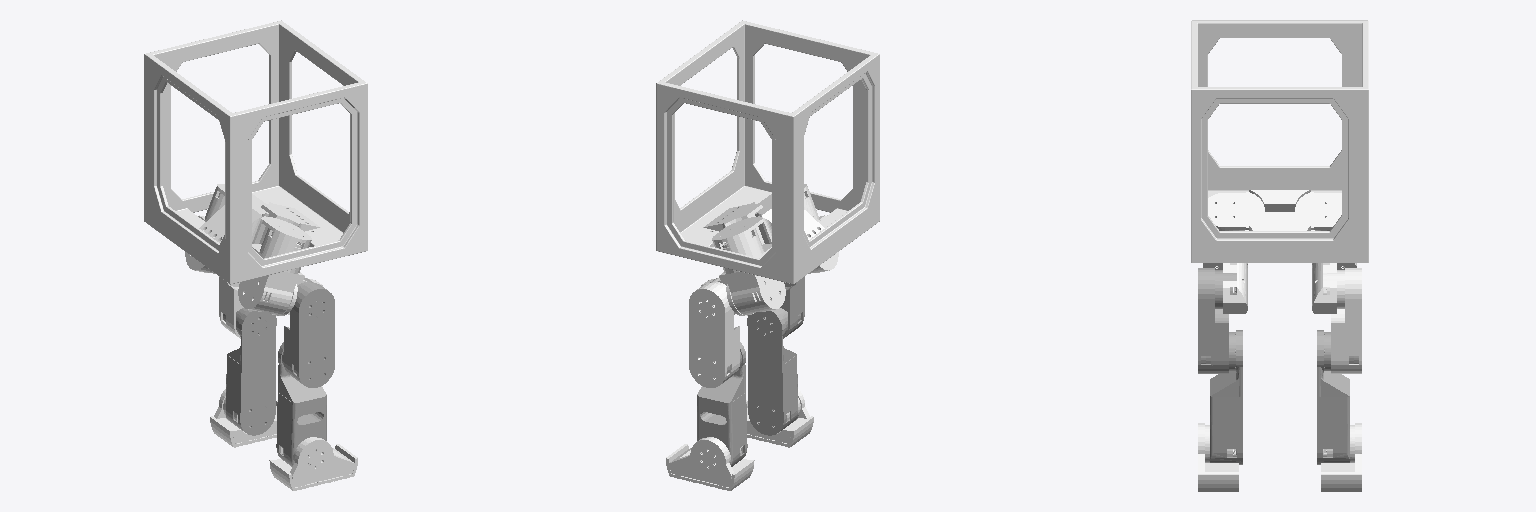
The robot description file, URDF, robot "x37":
<?xml version="1.0" encoding="utf-8"?>
<!-- This URDF was automatically created by SolidWorks to URDF Exporter! Originally created by [author] ([email redacted]) 
     Commit Version: 1.6.0-4-g7f85cfe  Build Version: 1.6.7995.38578
     For more information, please see http://wiki.ros.org/sw_urdf_exporter -->
<robot
  name="x37">
  <link
    name="base_link">
    <inertial>
      <origin
        xyz="-0.0052659 0.0046285 0.091904"
        rpy="0 0 0" />
      <mass
        value="0.63" />
      <inertia
        ixx="0.032866"
        ixy="-4.7247E-05"
        ixz="0.00037312"
        iyy="0.03236"
        iyz="-0.00040682"
        izz="0.031374" />
    </inertial>
    <visual>
      <origin
        xyz="0 0 0"
        rpy="0 0 0" />
      <geometry>
        <mesh
          filename="package://x37/meshes/base_link.STL" />
      </geometry>
      <material
        name="">
        <color
          rgba="1 1 1 1" />
      </material>
    </visual>
    <collision>
      <origin
        xyz="0 0 0"
        rpy="0 0 0" />
      <geometry>
        <mesh
          filename="package://x37/meshes/base_link.STL" />
      </geometry>
    </collision>
  </link>
  <link
    name="left_shoulder_link">
    <inertial>
      <origin
        xyz="-0.0017322 -1.2049E-08 0.011761"
        rpy="0 0 0" />
      <mass
        value="0.4" />
      <inertia
        ixx="7.7938E-05"
        ixy="-1.8587E-08"
        ixz="-3.6417E-06"
        iyy="7.4358E-05"
        iyz="1.2237E-11"
        izz="7.9817E-05" />
    </inertial>
    <visual>
      <origin
        xyz="0 0 0"
        rpy="0 0 0" />
      <geometry>
        <mesh
          filename="package://x37/meshes/left_shoulder_link.STL" />
      </geometry>
      <material
        name="">
        <color
          rgba="1 1 1 1" />
      </material>
    </visual>
    <collision>
      <origin
        xyz="0 0 0"
        rpy="0 0 0" />
      <geometry>
        <mesh
          filename="package://x37/meshes/left_shoulder_link.STL" />
      </geometry>
    </collision>
  </link>
  <joint
    name="left_shoulder_joint"
    type="revolute">
    <origin
      xyz="-0.00828743204546448 0.0800000000000006 -0.0160851055183165"
      rpy="0 0.411516846067488 0" />
    <parent
      link="base_link" />
    <child
      link="left_shoulder_link" />
    <axis
      xyz="0 0 1" />
    <limit
      lower="-1"
      upper="1"
      effort="9"
      velocity="0" />
  </joint>
  <link
    name="left_pitch_link">
    <inertial>
      <origin
        xyz="-0.010677 0.0034309 -9.5797E-05"
        rpy="0 0 0" />
      <mass
        value="0.45" />
      <inertia
        ixx="6.2479E-05"
        ixy="-4.6603E-06"
        ixz="-2.4954E-07"
        iyy="7.4674E-05"
        iyz="-3.5353E-08"
        izz="7.3044E-05" />
    </inertial>
    <visual>
      <origin
        xyz="0 0 0"
        rpy="0 0 0" />
      <geometry>
        <mesh
          filename="package://x37/meshes/left_pitch_link.STL" />
      </geometry>
      <material
        name="">
        <color
          rgba="1 1 1 1" />
      </material>
    </visual>
    <collision>
      <origin
        xyz="0 0 0"
        rpy="0 0 0" />
      <geometry>
        <mesh
          filename="package://x37/meshes/left_pitch_link.STL" />
      </geometry>
    </collision>
  </link>
  <joint
    name="left_pitch_joint"
    type="revolute">
    <origin
      xyz="0.0253000000000022 0 -0.0407477270848656"
      rpy="-3.14159265358979 0 0" />
    <parent
      link="left_shoulder_link" />
    <child
      link="left_pitch_link" />
    <axis
      xyz="-1 0 0" />
    <limit
      lower="-0.23"
      upper="0.23"
      effort="9"
      velocity="0" />
  </joint>
  <link
    name="left_thigh_link">
    <inertial>
      <origin
        xyz="0.0085223 -0.019784 -0.019604"
        rpy="0 0 0" />
      <mass
        value="0.43" />
      <inertia
        ixx="0.00012886"
        ixy="2.6054E-06"
        ixz="2.0573E-05"
        iyy="0.00016108"
        iyz="-5.9908E-06"
        izz="9.097E-05" />
    </inertial>
    <visual>
      <origin
        xyz="0 0 0"
        rpy="0 0 0" />
      <geometry>
        <mesh
          filename="package://x37/meshes/left_thigh_link.STL" />
      </geometry>
      <material
        name="">
        <color
          rgba="1 1 1 1" />
      </material>
    </visual>
    <collision>
      <origin
        xyz="0 0 0"
        rpy="0 0 0" />
      <geometry>
        <mesh
          filename="package://x37/meshes/left_thigh_link.STL" />
      </geometry>
    </collision>
  </link>
  <joint
    name="left_hip_joint"
    type="revolute">
    <origin
      xyz="0.041999999999999 -0.0358357508034273 0"
      rpy="-3.14159265358979 0 0" />
    <parent
      link="left_pitch_link" />
    <child
      link="left_thigh_link" />
    <axis
      xyz="0 -1 0" />
    <limit
      lower="-1.57"
      upper="1.57"
      effort="9"
      velocity="0" />
  </joint>
  <link
    name="left_shank_link">
    <inertial>
      <origin
        xyz="-0.00062601 -0.017923 0.04362"
        rpy="0 0 0" />
      <mass
        value="0.46" />
      <inertia
        ixx="0.00028279"
        ixy="-1.8797E-07"
        ixz="2.4416E-06"
        iyy="0.00030484"
        iyz="1.2948E-05"
        izz="0.00010499" />
    </inertial>
    <visual>
      <origin
        xyz="0 0 0"
        rpy="0 0 0" />
      <geometry>
        <mesh
          filename="package://x37/meshes/left_shank_link.STL" />
      </geometry>
      <material
        name="">
        <color
          rgba="0.75294 0.75294 0.75294 1" />
      </material>
    </visual>
    <collision>
      <origin
        xyz="0 0 0"
        rpy="0 0 0" />
      <geometry>
        <mesh
          filename="package://x37/meshes/left_shank_link.STL" />
      </geometry>
    </collision>
  </link>
  <joint
    name="left_knee_joint"
    type="revolute">
    <origin
      xyz="0.0400000000000002 -0.0543 -0.0916515138991201"
      rpy="-3.14159265358979 -0.411516846067489 0" />
    <parent
      link="left_thigh_link" />
    <child
      link="left_shank_link" />
    <axis
      xyz="0 -1 0" />
    <limit
      lower="-0.3"
      upper="1.8"
      effort="9"
      velocity="0" />
  </joint>
  <link
    name="left_foot_link">
    <inertial>
      <origin
        xyz="0.005873 -0.023711 -0.011364"
        rpy="0 0 0" />
      <mass
        value="0.46" />
      <inertia
        ixx="7.6336E-05"
        ixy="2.8386E-06"
        ixz="2.251E-06"
        iyy="0.00014798"
        iyz="-5.2321E-06"
        izz="0.00015575" />
    </inertial>
    <visual>
      <origin
        xyz="0 0 0"
        rpy="0 0 0" />
      <geometry>
        <mesh
          filename="package://x37/meshes/left_foot_link.STL" />
      </geometry>
      <material
        name="">
        <color
          rgba="1 1 1 1" />
      </material>
    </visual>
    <collision>
      <origin
        xyz="0 0 0"
        rpy="0 0 0" />
      <geometry>
        <mesh
          filename="package://x37/meshes/left_foot_link.STL" />
      </geometry>
    </collision>
  </link>
  <joint
    name="left_ankle_joint"
    type="revolute">
    <origin
      xyz="-0.00199982224592043 -0.0543 0.149986668444178"
      rpy="-3.14159265358979 0 0" />
    <parent
      link="left_shank_link" />
    <child
      link="left_foot_link" />
    <axis
      xyz="0 -1 0" />
    <limit
      lower="-0.75"
      upper="0.75"
      effort="9"
      velocity="0" />
  </joint>
  <link
    name="right_shoulder_link">
    <inertial>
      <origin
        xyz="-0.0016815 -1.469E-08 0.011836"
        rpy="0 0 0" />
      <mass
        value="0.4" />
      <inertia
        ixx="7.7655E-05"
        ixy="-1.8581E-08"
        ixz="-3.6305E-06"
        iyy="7.3951E-05"
        iyz="-2.0452E-11"
        izz="7.9687E-05" />
    </inertial>
    <visual>
      <origin
        xyz="0 0 0"
        rpy="0 0 0" />
      <geometry>
        <mesh
          filename="package://x37/meshes/right_shoulder_link.STL" />
      </geometry>
      <material
        name="">
        <color
          rgba="1 1 1 1" />
      </material>
    </visual>
    <collision>
      <origin
        xyz="0 0 0"
        rpy="0 0 0" />
      <geometry>
        <mesh
          filename="package://x37/meshes/right_shoulder_link.STL" />
      </geometry>
    </collision>
  </link>
  <joint
    name="right_shoulder_joint"
    type="revolute">
    <origin
      xyz="-0.0082874320454378 -0.0799999999999715 -0.0160851055183276"
      rpy="0 0.411516846067488 0" />
    <parent
      link="base_link" />
    <child
      link="right_shoulder_link" />
    <axis
      xyz="0 0 1" />
    <limit
      lower="-1"
      upper="1"
      effort="9"
      velocity="0" />
  </joint>
  <link
    name="right_pitch_link">
    <inertial>
      <origin
        xyz="-0.010677 -0.0034309 -9.5799E-05"
        rpy="0 0 0" />
      <mass
        value="0.45" />
      <inertia
        ixx="6.2479E-05"
        ixy="4.6603E-06"
        ixz="-2.4955E-07"
        iyy="7.4674E-05"
        iyz="3.5345E-08"
        izz="7.3044E-05" />
    </inertial>
    <visual>
      <origin
        xyz="0 0 0"
        rpy="0 0 0" />
      <geometry>
        <mesh
          filename="package://x37/meshes/right_pitch_link.STL" />
      </geometry>
      <material
        name="">
        <color
          rgba="1 1 1 1" />
      </material>
    </visual>
    <collision>
      <origin
        xyz="0 0 0"
        rpy="0 0 0" />
      <geometry>
        <mesh
          filename="package://x37/meshes/right_pitch_link.STL" />
      </geometry>
    </collision>
  </link>
  <joint
    name="right_pitch_joint"
    type="revolute">
    <origin
      xyz="0.0252999999999733 0 -0.0407477270848662"
      rpy="-3.14159265358979 0 0" />
    <parent
      link="right_shoulder_link" />
    <child
      link="right_pitch_link" />
    <axis
      xyz="-1 0 0" />
    <limit
      lower="-0.23"
      upper="0.23"
      effort="9"
      velocity="0" />
  </joint>
  <link
    name="right_thigh_link">
    <inertial>
      <origin
        xyz="0.0085223 0.019784 -0.019604"
        rpy="0 0 0" />
      <mass
        value="0.43" />
      <inertia
        ixx="0.00012886"
        ixy="-2.6054E-06"
        ixz="2.0573E-05"
        iyy="0.00016108"
        iyz="5.9908E-06"
        izz="9.097E-05" />
    </inertial>
    <visual>
      <origin
        xyz="0 0 0"
        rpy="0 0 0" />
      <geometry>
        <mesh
          filename="package://x37/meshes/right_thigh_link.STL" />
      </geometry>
      <material
        name="">
        <color
          rgba="0.75294 0.75294 0.75294 1" />
      </material>
    </visual>
    <collision>
      <origin
        xyz="0 0 0"
        rpy="0 0 0" />
      <geometry>
        <mesh
          filename="package://x37/meshes/right_thigh_link.STL" />
      </geometry>
    </collision>
  </link>
  <joint
    name="right_hip_joint"
    type="revolute">
    <origin
      xyz="0.042 0.035836 0"
      rpy="3.1416 0 0" />
    <parent
      link="right_pitch_link" />
    <child
      link="right_thigh_link" />
    <axis
      xyz="0 -1 0" />
    <limit
      lower="-1.57"
      upper="1.57"
      effort="9"
      velocity="0" />
  </joint>
  <link
    name="right_shank_link">
    <inertial>
      <origin
        xyz="-0.000626 0.017923 0.04362"
        rpy="0 0 0" />
      <mass
        value="0.46" />
      <inertia
        ixx="0.00028279"
        ixy="1.8788E-07"
        ixz="2.4415E-06"
        iyy="0.00030484"
        iyz="-1.2948E-05"
        izz="0.00010499" />
    </inertial>
    <visual>
      <origin
        xyz="0 0 0"
        rpy="0 0 0" />
      <geometry>
        <mesh
          filename="package://x37/meshes/right_shank_link.STL" />
      </geometry>
      <material
        name="">
        <color
          rgba="0.75294 0.75294 0.75294 1" />
      </material>
    </visual>
    <collision>
      <origin
        xyz="0 0 0"
        rpy="0 0 0" />
      <geometry>
        <mesh
          filename="package://x37/meshes/right_shank_link.STL" />
      </geometry>
    </collision>
  </link>
  <joint
    name="right_knee_joint"
    type="revolute">
    <origin
      xyz="0.04 0.0543 -0.091652"
      rpy="-3.1416 -0.41152 0" />
    <parent
      link="right_thigh_link" />
    <child
      link="right_shank_link" />
    <axis
      xyz="0 -1 0" />
    <limit
      lower="-0.3"
      upper="1.8"
      effort="9"
      velocity="0" />
  </joint>
  <link
    name="right_foot_link">
    <inertial>
      <origin
        xyz="0.005873 -0.023711 0.011364"
        rpy="0 0 0" />
      <mass
        value="0.46" />
      <inertia
        ixx="7.6336E-05"
        ixy="2.8386E-06"
        ixz="-2.251E-06"
        iyy="0.00014798"
        iyz="5.2321E-06"
        izz="0.00015575" />
    </inertial>
    <visual>
      <origin
        xyz="0 0 0"
        rpy="0 0 0" />
      <geometry>
        <mesh
          filename="package://x37/meshes/right_foot_link.STL" />
      </geometry>
      <material
        name="">
        <color
          rgba="1 1 1 1" />
      </material>
    </visual>
    <collision>
      <origin
        xyz="0 0 0"
        rpy="0 0 0" />
      <geometry>
        <mesh
          filename="package://x37/meshes/right_foot_link.STL" />
      </geometry>
    </collision>
  </link>
  <joint
    name="right_ankle_joint"
    type="revolute">
    <origin
      xyz="-0.0019998 0.0543 0.14999"
      rpy="0 0 0" />
    <parent
      link="right_shank_link" />
    <child
      link="right_foot_link" />
    <axis
      xyz="0 1 0" />
    <limit
      lower="-0.75"
      upper="0.75"
      effort="9"
      velocity="0" />
  </joint>
</robot>

--- Facts derived from the render (not from the file) ---
Views: 3 orthographic renders of the robot side by side, from view 1: azimuth 30°, elevation 25°; view 2: azimuth 150°, elevation 25°; view 3: azimuth 270°, elevation 25°.
Robot: x37 — 11 links, 10 joints (10 revolute); root link base_link; default pose: every joint at zero.
Visible links, largest first — view 1: base_link, left_shank_link, right_thigh_link, right_shank_link, right_foot_link, right_shoulder_link, left_foot_link, left_thigh_link; view 2: base_link, right_shank_link, left_thigh_link, left_shank_link, left_foot_link, left_shoulder_link, right_foot_link, right_thigh_link; view 3: base_link, left_shank_link, right_shank_link, left_thigh_link, right_thigh_link, left_foot_link, right_foot_link, right_pitch_link, left_pitch_link.
Link boxes in pixels (x1=…): base_link: x1=144, y1=20, x2=367, y2=284; left_shank_link: x1=223, y1=308, x2=276, y2=435; right_thigh_link: x1=284, y1=278, x2=334, y2=387; right_shank_link: x1=276, y1=342, x2=326, y2=466; right_foot_link: x1=269, y1=437, x2=357, y2=490; right_shoulder_link: x1=238, y1=232, x2=304, y2=314; left_foot_link: x1=210, y1=389, x2=277, y2=447; left_thigh_link: x1=219, y1=277, x2=243, y2=338; base_link: x1=656, y1=20, x2=879, y2=283; right_shank_link: x1=747, y1=308, x2=800, y2=435; left_thigh_link: x1=689, y1=278, x2=739, y2=387; left_shank_link: x1=697, y1=342, x2=747, y2=466; left_foot_link: x1=666, y1=437, x2=754, y2=490; left_shoulder_link: x1=719, y1=232, x2=785, y2=314; right_foot_link: x1=746, y1=389, x2=813, y2=447; right_thigh_link: x1=780, y1=277, x2=804, y2=338; base_link: x1=1191, y1=20, x2=1368, y2=262; left_shank_link: x1=1317, y1=330, x2=1358, y2=464; right_shank_link: x1=1201, y1=330, x2=1242, y2=464; left_thigh_link: x1=1323, y1=268, x2=1361, y2=373; right_thigh_link: x1=1198, y1=268, x2=1236, y2=373; left_foot_link: x1=1321, y1=423, x2=1361, y2=491; right_foot_link: x1=1198, y1=423, x2=1238, y2=491; right_pitch_link: x1=1203, y1=263, x2=1247, y2=313; left_pitch_link: x1=1312, y1=263, x2=1356, y2=313.
Size in the robot's own frame: 0.24 by 0.26 by 0.6555 metres.
Meshes: 11 distinct files referenced, 11 mesh visuals loaded (11 binary STL).